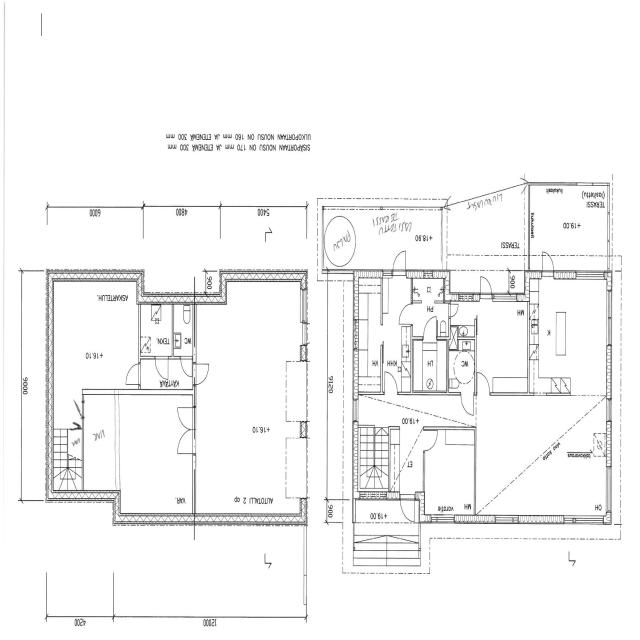door: (176, 401, 194, 461), (123, 361, 142, 387), (400, 494, 416, 524), (153, 355, 170, 382), (193, 361, 211, 386), (460, 388, 475, 417), (478, 274, 494, 301), (475, 369, 491, 396), (540, 250, 555, 278), (391, 249, 407, 275), (382, 369, 398, 395), (422, 315, 438, 341), (423, 427, 439, 452), (398, 301, 413, 326), (180, 357, 194, 379), (74, 397, 86, 420), (448, 300, 460, 320)
window: (298, 284, 311, 336), (604, 463, 614, 516), (604, 296, 614, 349), (573, 268, 607, 282), (569, 514, 605, 526), (428, 512, 457, 526), (299, 317, 311, 348), (302, 572, 309, 616), (492, 293, 518, 304), (605, 395, 614, 425)
zone: (194, 287, 301, 517), (116, 391, 194, 518), (52, 284, 140, 394), (529, 276, 610, 394), (206, 281, 307, 368), (531, 189, 608, 257), (476, 298, 529, 394), (422, 426, 476, 520), (83, 390, 118, 496), (354, 276, 384, 394), (138, 302, 174, 358), (412, 338, 448, 393), (323, 210, 357, 268), (448, 301, 478, 348), (53, 425, 84, 470), (173, 303, 195, 359), (448, 349, 475, 394), (412, 274, 446, 304)
